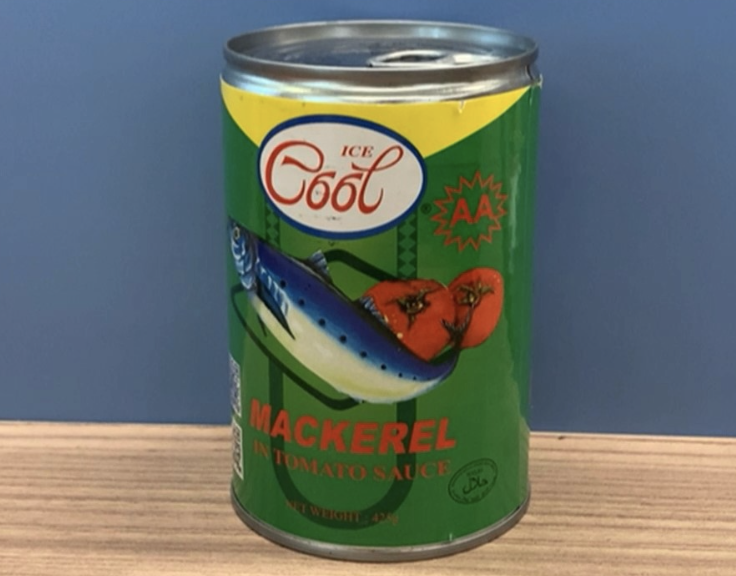sardines_400g-499g: (236, 97, 520, 512)
